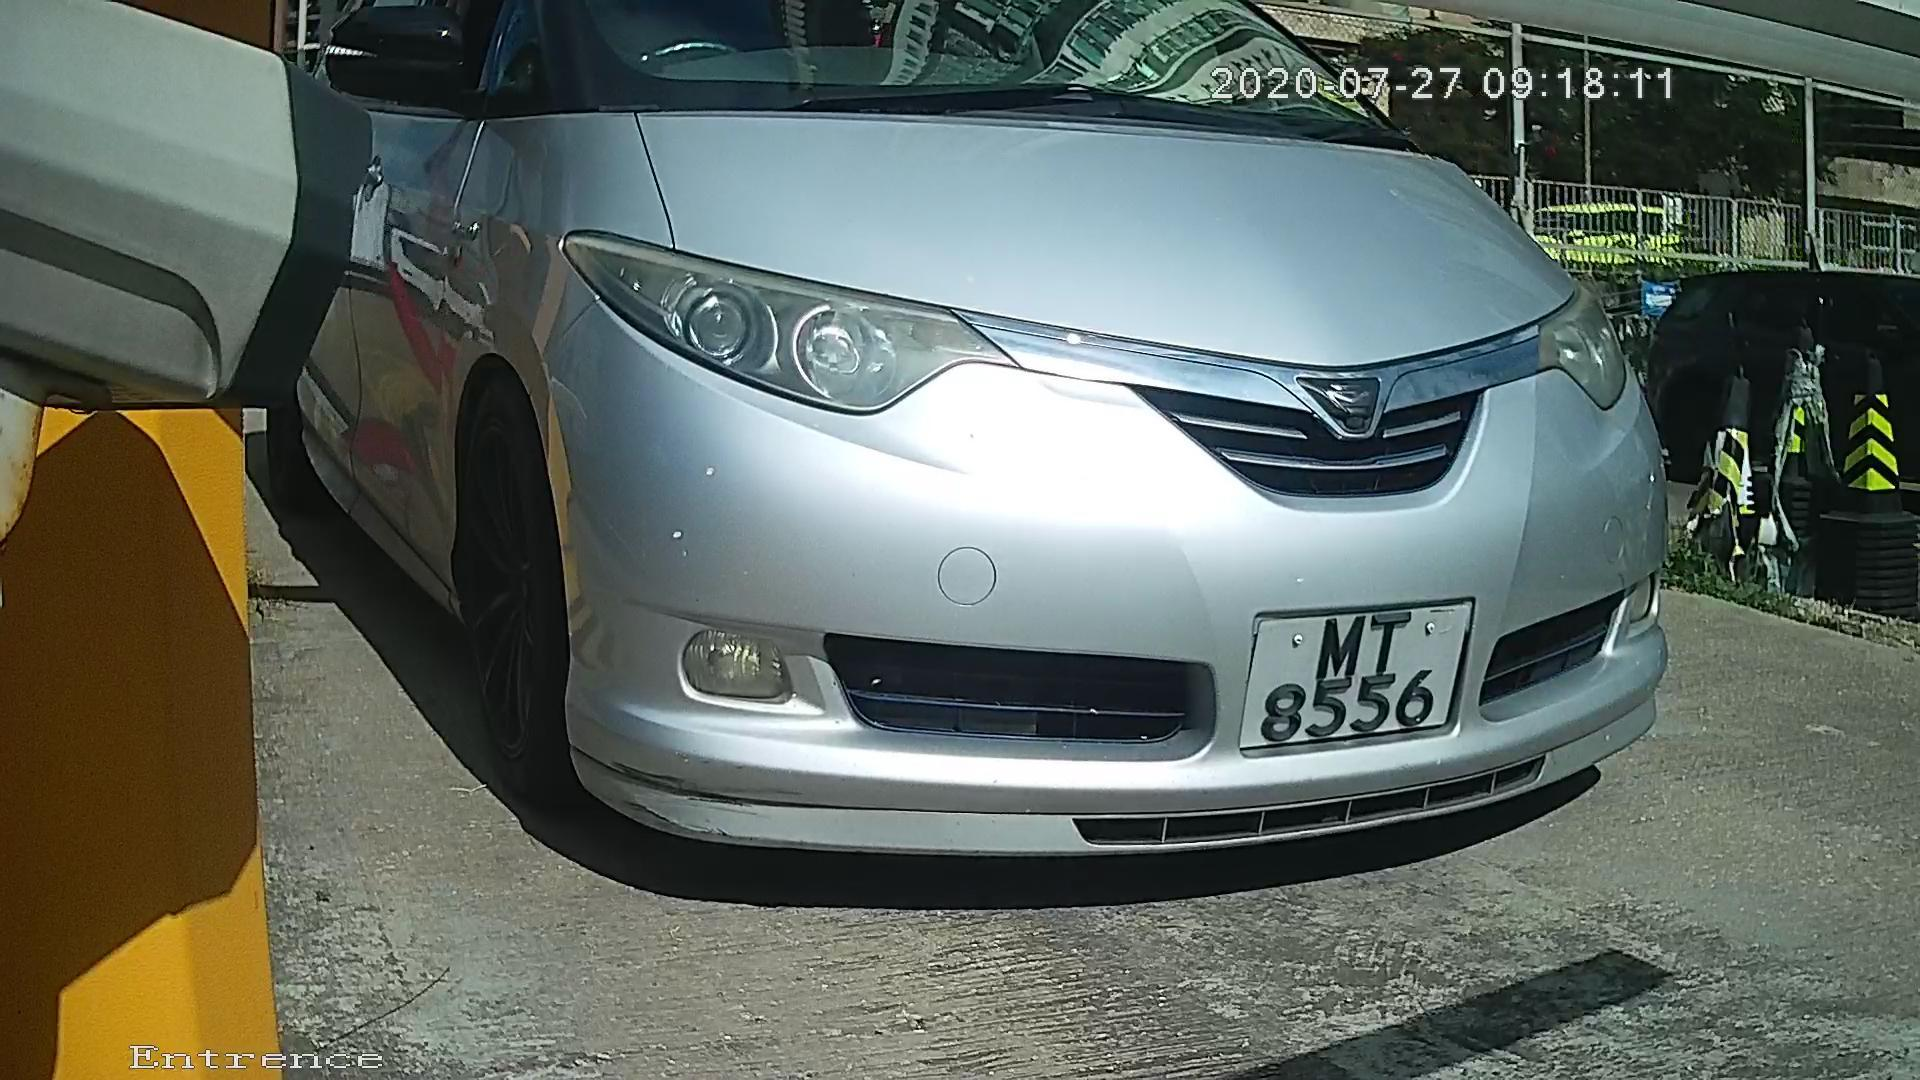Car: (223, 73, 1732, 907)
License Plate: (1226, 584, 1483, 772)
